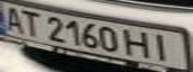0: (96, 25, 121, 53)
1: (60, 18, 81, 46)
2: (42, 14, 66, 43)
6: (78, 20, 100, 50)
A: (0, 3, 27, 34)
H: (124, 28, 154, 58)
I: (148, 32, 181, 62)
T: (18, 8, 45, 37)
